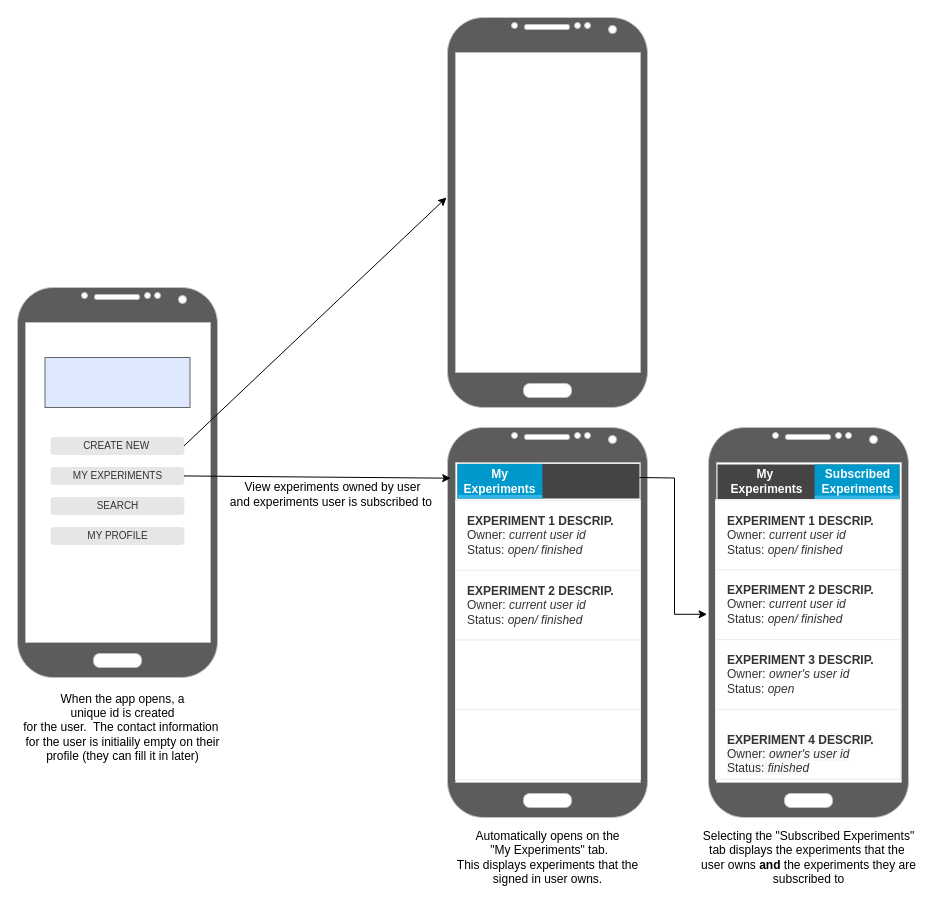
Some shapes in this 940 by 905 pixel diagram are drawn without their labels. Here are the shapes that lost their labels. From the top down, the box of each, then its label:
(44, 356, 190, 408): Crowdsource Experiments
(541, 463, 640, 498): Subscribed Experments
